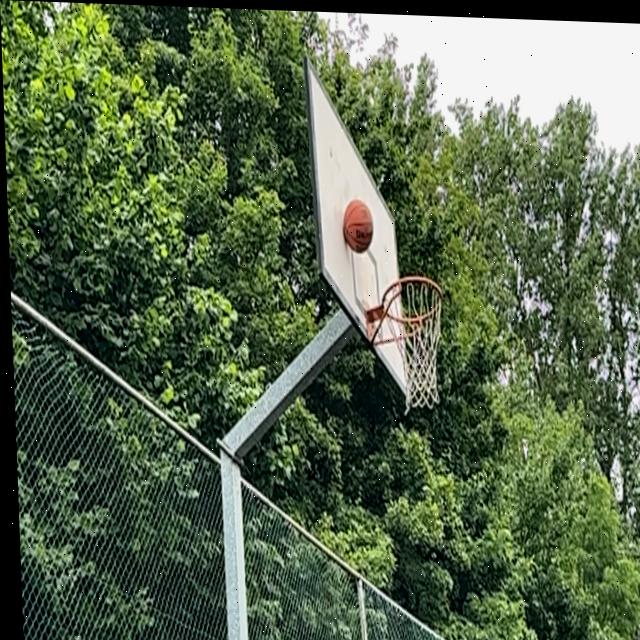rebound_hit: (341, 199, 375, 255)
